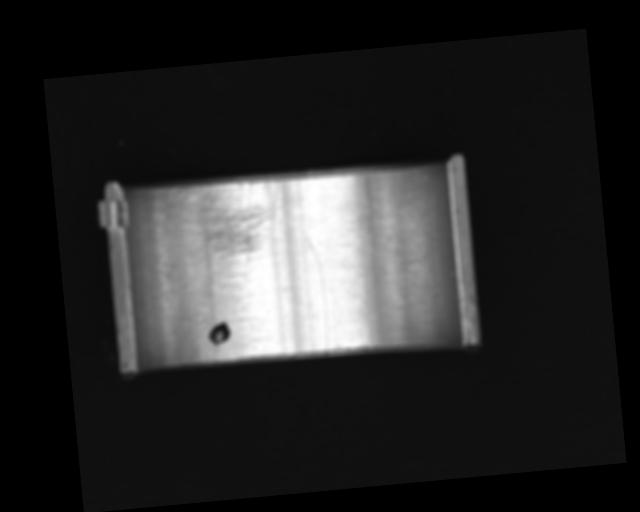blot: (205, 320, 233, 346)
nick: (304, 233, 331, 355)
scratch: (168, 177, 287, 272)
